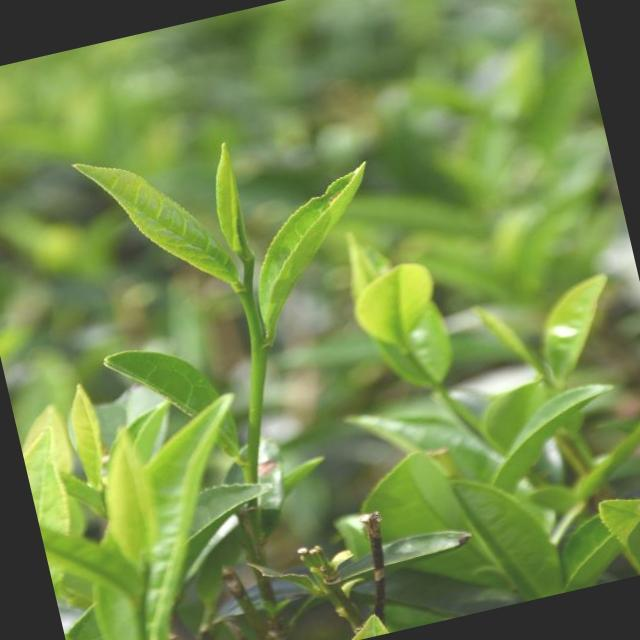Stem: (238, 289, 255, 310)
